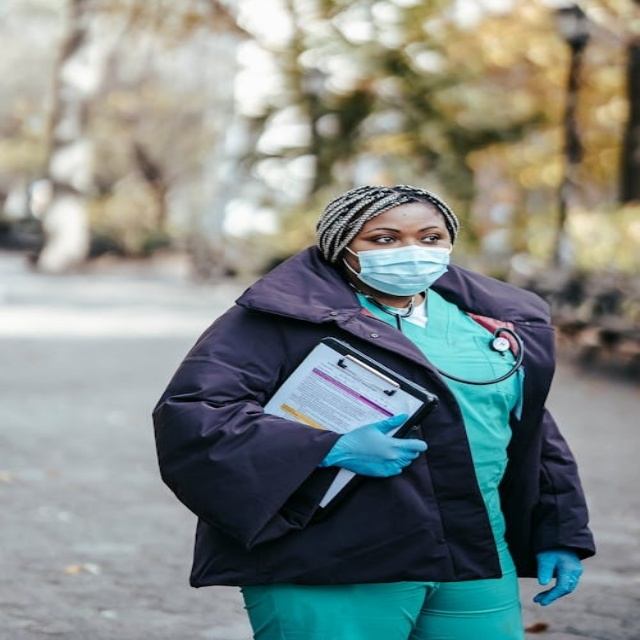Guantes: (318, 413, 426, 476), (533, 549, 583, 606)
Mascara: (344, 242, 452, 295)
Sin_gafas: (348, 223, 452, 244)
